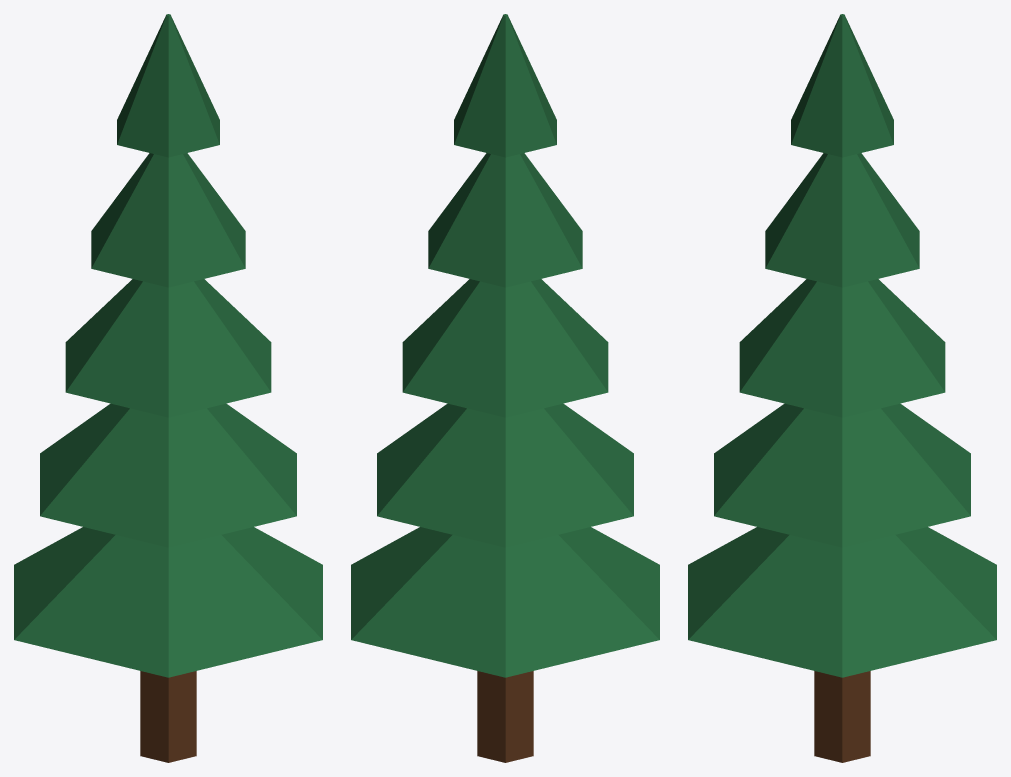
File: pine-tall-five-tiers.glb
3 views of the same model, side by side, from view 1: azimuth 30°, elevation 25°; view 2: azimuth 150°, elevation 25°; view 3: azimuth 270°, elevation 25° (orthographic).
Visible parts, largest first — view 1: foliage-1, foliage-2, foliage-3, foliage-4, foliage-5, trunk; view 2: foliage-1, foliage-2, foliage-3, foliage-4, foliage-5, trunk; view 3: foliage-1, foliage-2, foliage-3, foliage-4, foliage-5, trunk.
Boxes of the visible parts, x1,y1,x2,y2 form: foliage-1: [14, 527, 322, 677]; foliage-2: [40, 403, 296, 547]; foliage-3: [65, 279, 271, 417]; foliage-4: [91, 153, 245, 287]; foliage-5: [117, 14, 219, 157]; trunk: [140, 671, 196, 762]; foliage-1: [351, 527, 659, 677]; foliage-2: [377, 403, 633, 547]; foliage-3: [402, 279, 608, 417]; foliage-4: [428, 153, 582, 287]; foliage-5: [454, 14, 556, 157]; trunk: [477, 671, 533, 762]; foliage-1: [688, 527, 996, 677]; foliage-2: [714, 403, 970, 547]; foliage-3: [739, 279, 945, 417]; foliage-4: [765, 153, 919, 287]; foliage-5: [791, 14, 893, 157]; trunk: [814, 671, 870, 762].
Size of the model in its own units: 3.52 by 8 by 3.05.
